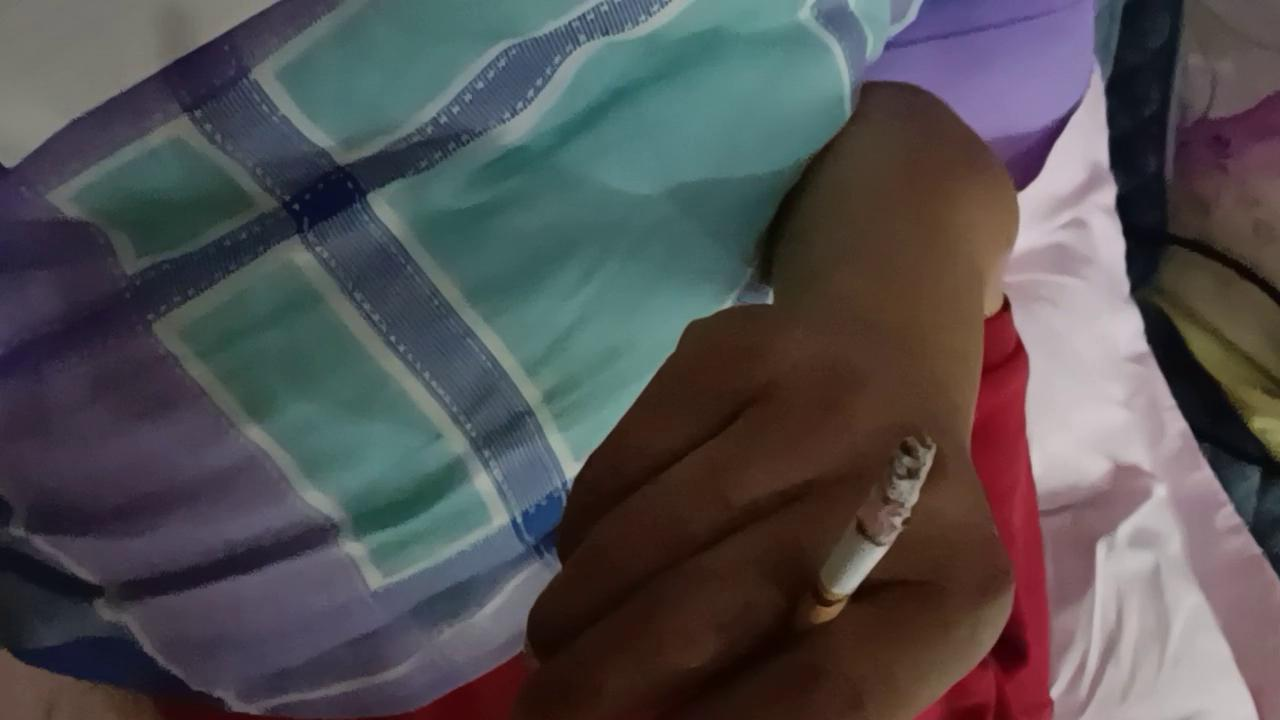smoke: (765, 434, 938, 668)
